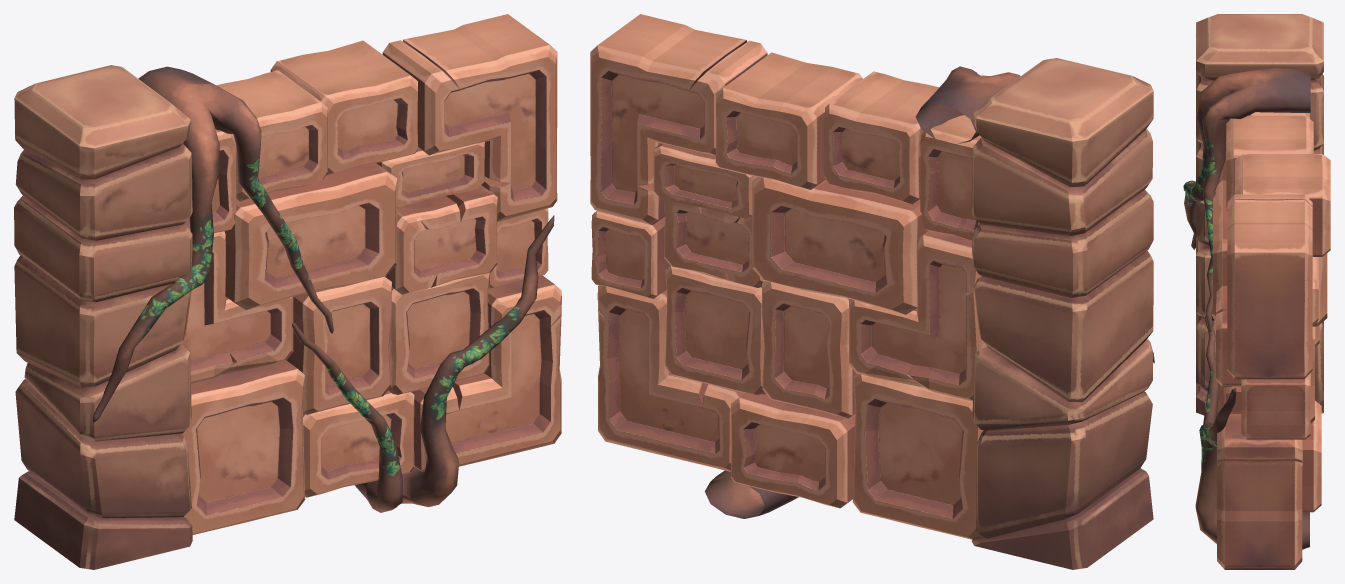
The model's file is FullWallSingular.fbx.
3 views of the same model, side by side, from view 1: azimuth 30°, elevation 25°; view 2: azimuth 150°, elevation 25°; view 3: azimuth 270°, elevation 25° (orthographic). The views are drawn at different scales.
Parts seen in each view (by area): view 1: FullWall6; view 2: FullWall6; view 3: FullWall6.
Part boxes in pixels (bbox=[...]): FullWall6: bbox=[14, 14, 561, 569]; FullWall6: bbox=[590, 14, 1154, 569]; FullWall6: bbox=[1183, 14, 1330, 569].
Bounding box in the file's own units: 2.34 × 2.17 × 0.7239.
